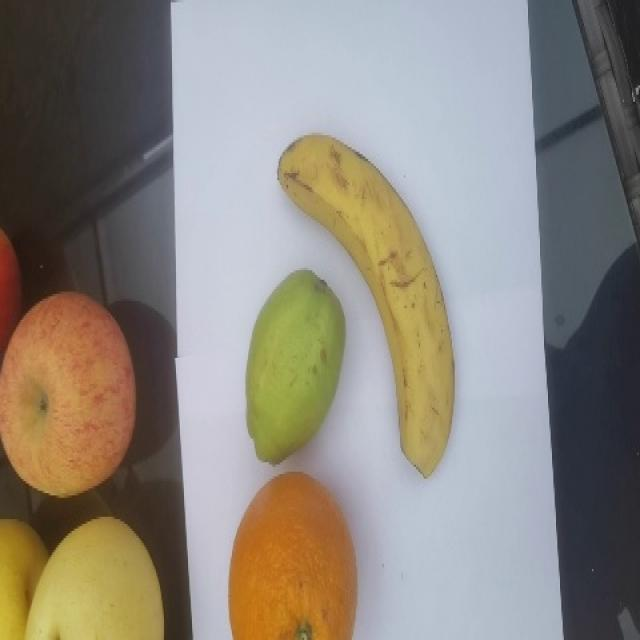Apple: (0, 282, 136, 496), (0, 220, 25, 350)
Banana: (276, 130, 457, 480)
Orange: (227, 467, 360, 640)
